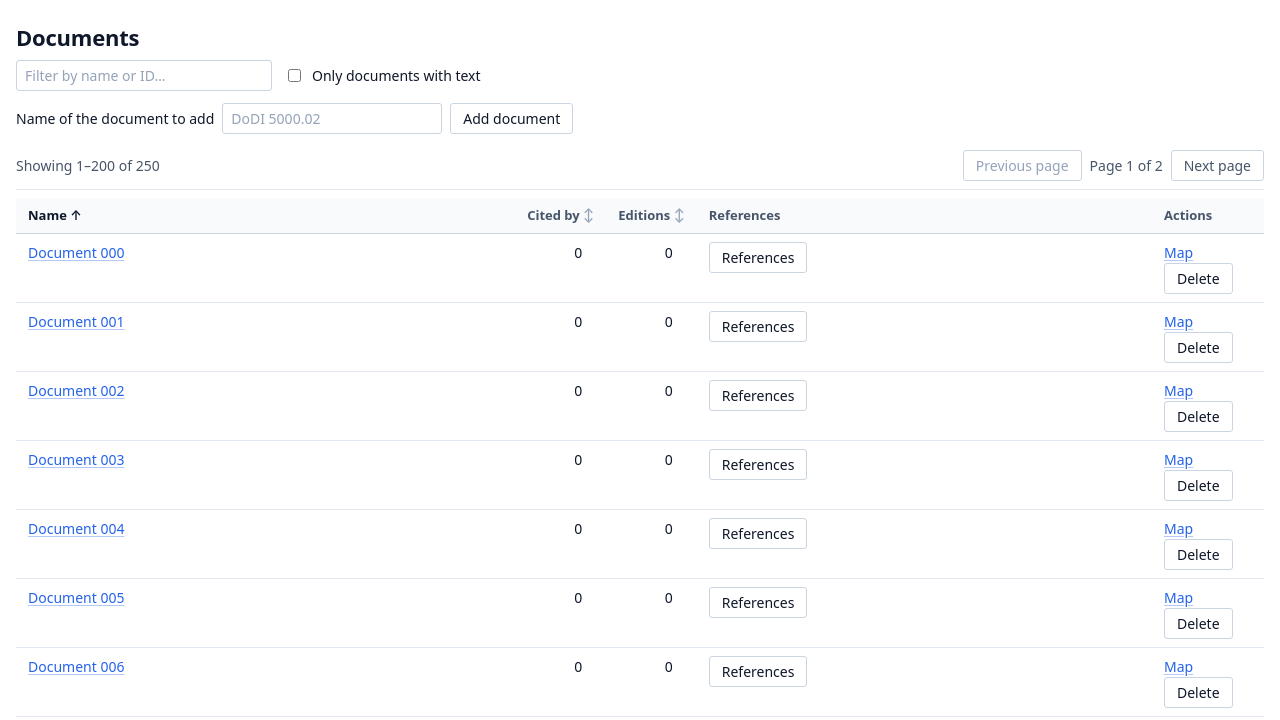
it: DocumentTable paging › goes back, and will not step off either end
Check: the button "Previous page" is disabled, box left=963, top=150, right=1082, bottom=180
Click the button "Next page": (1217, 165) left=1171, top=150, right=1264, bottom=180
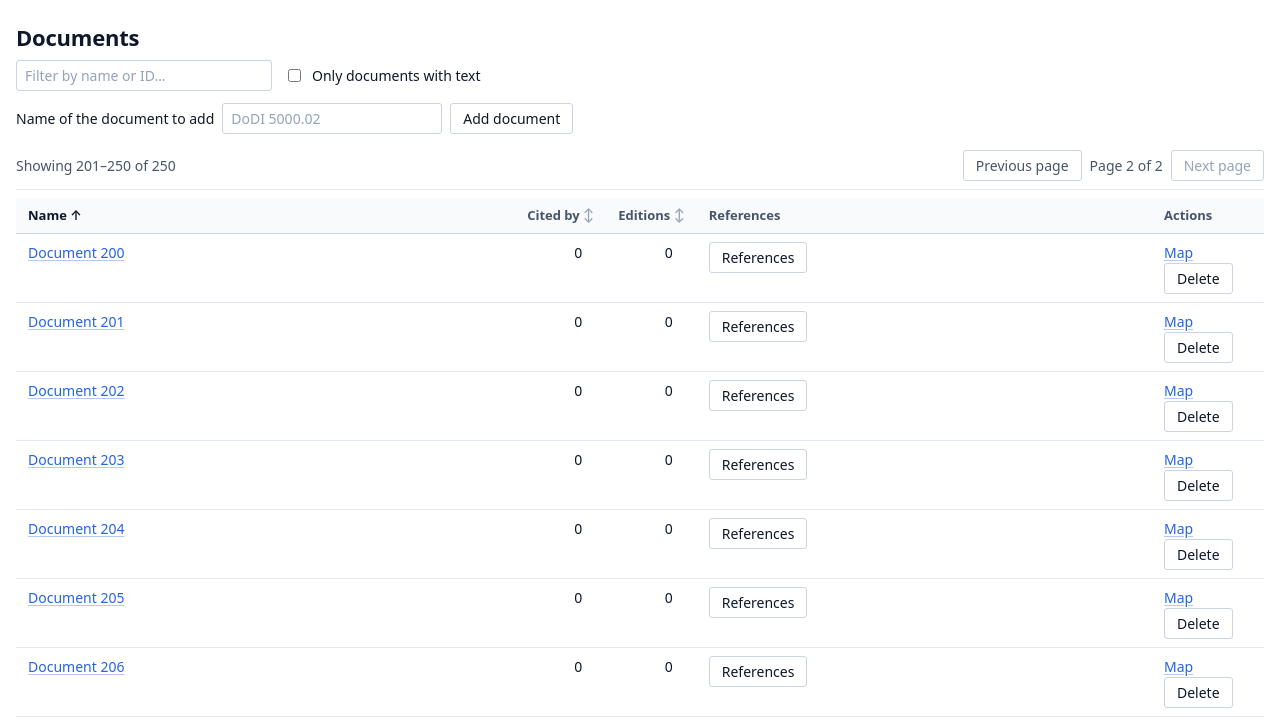
Check: the button "Next page" is disabled, box left=1171, top=150, right=1264, bottom=180
Click the button "Previous page": (1022, 165) left=963, top=150, right=1082, bottom=180
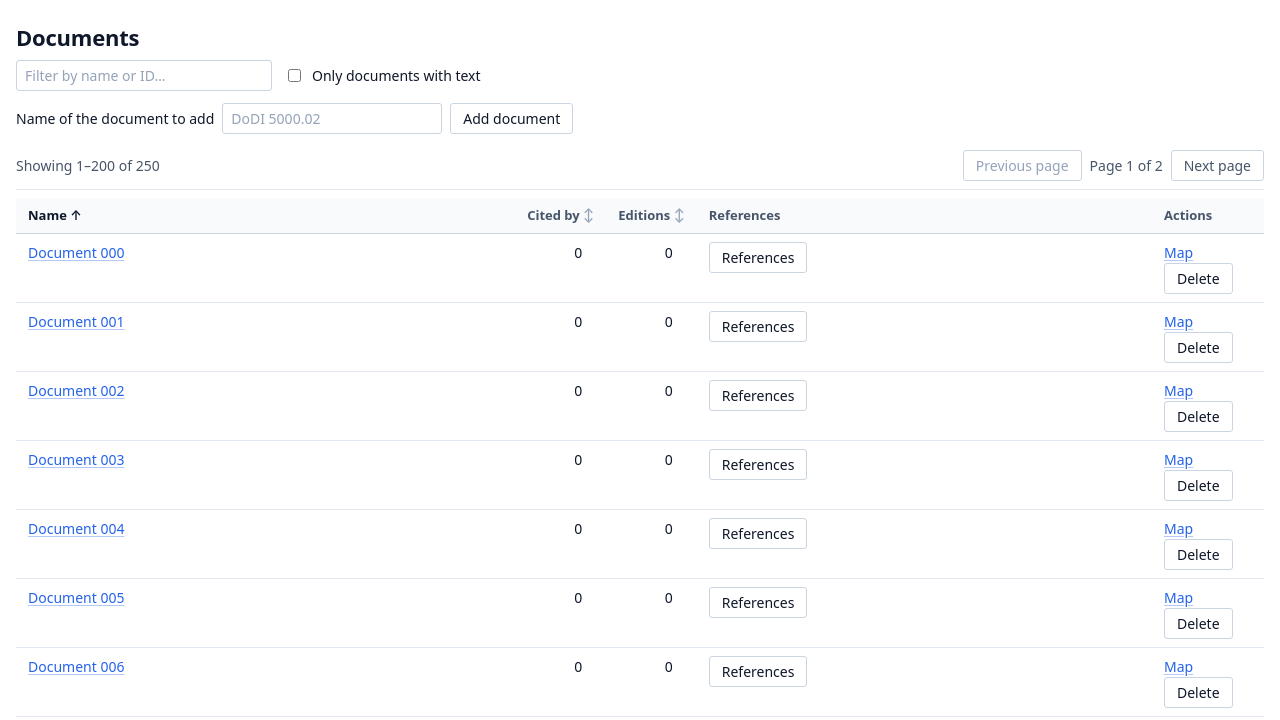
Check: the link "Document 000" is shown, box left=28, top=243, right=124, bottom=262
